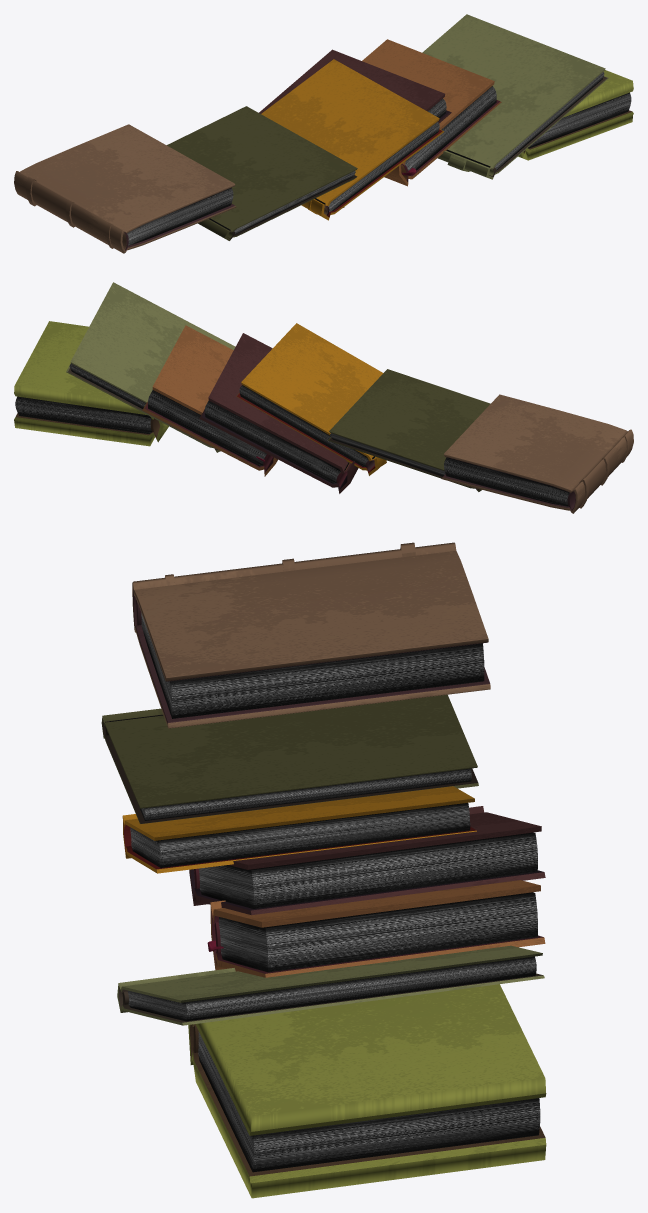
Rendered from FallenBookStack.fbx.
3 views of the same model, one above another, from view 1: azimuth 30°, elevation 25°; view 2: azimuth 150°, elevation 25°; view 3: azimuth 270°, elevation 25° (orthographic). The views are drawn at different scales.
Visible parts, largest first — view 1: pCube71, pCube14, pCube67, pCube15, pCube72, pCube69, pCube11, pages13, pages17, pages15, pages11, pages16 (+1 smaller); view 2: pCube71, pCube67, pCube15, pCube14, pCube11, pCube69, pCube72, pages15, pages9, pages13, pages17, pages11 (+2 smaller); view 3: pCube11, pCube71, pCube67, pages17, pages9, pages13, pages15, pages11, pCube14, pages16, pCube15, pCube72 (+2 smaller).
Boxes of the visible parts, x1,y1,x2,y2 form: pCube71: [14, 124, 236, 253]; pCube14: [422, 14, 608, 179]; pCube67: [167, 106, 357, 240]; pCube15: [261, 59, 444, 220]; pCube72: [362, 39, 501, 186]; pCube69: [259, 49, 451, 207]; pCube11: [518, 70, 633, 160]; pages13: [127, 187, 233, 245]; pages17: [405, 86, 496, 175]; pages15: [528, 92, 631, 148]; pages11: [314, 122, 439, 214]; pages16: [446, 72, 604, 170]; pCube71: [441, 394, 633, 513]; pCube67: [327, 369, 490, 491]; pCube15: [236, 323, 386, 475]; pCube14: [66, 282, 235, 452]; pCube11: [14, 321, 168, 446]; pCube69: [199, 333, 358, 493]; pCube72: [142, 325, 277, 476]; pages15: [15, 396, 151, 433]; pages9: [204, 400, 349, 483]; pages13: [444, 457, 569, 506]; pages17: [148, 390, 266, 466]; pages11: [239, 385, 374, 466]; pCube11: [188, 984, 546, 1198]; pCube71: [132, 542, 490, 728]; pCube67: [101, 694, 478, 823]; pages17: [218, 892, 537, 972]; pages9: [199, 832, 537, 908]; pages13: [141, 613, 484, 718]; pages15: [198, 1031, 540, 1172]; pages11: [130, 803, 470, 867]; pCube14: [117, 945, 544, 1025]; pages16: [127, 956, 536, 1021]; pCube15: [122, 786, 476, 873]; pCube72: [210, 880, 545, 977].
Size of the model in its own units: 2.89 by 0.4037 by 0.9799.
